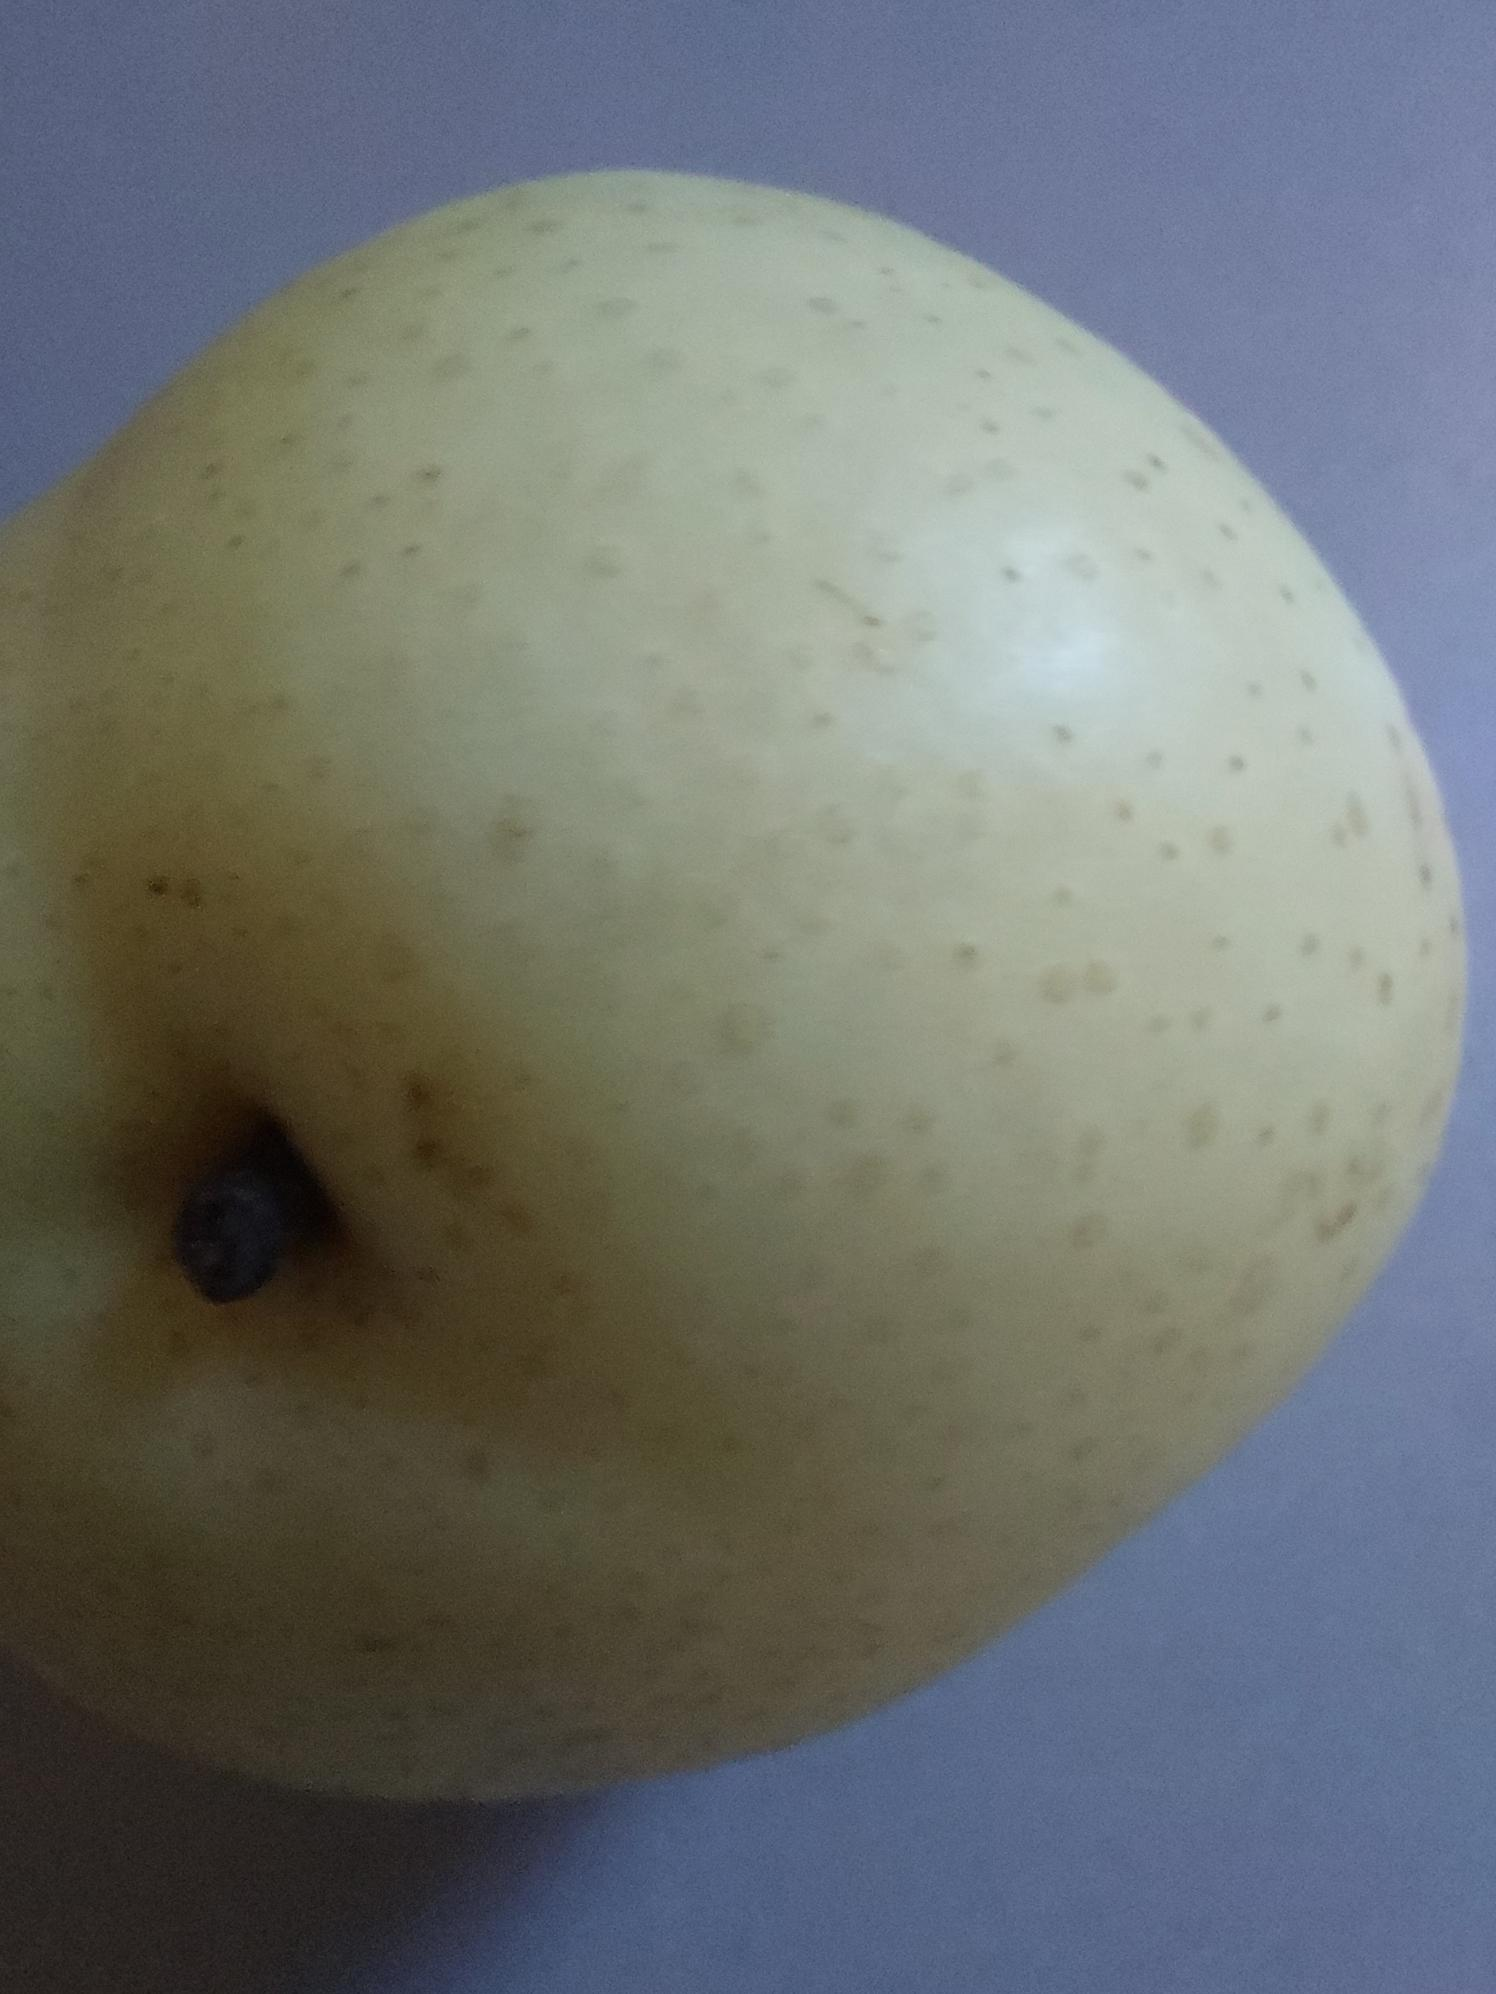Good Pear: (0, 160, 1465, 1813)
